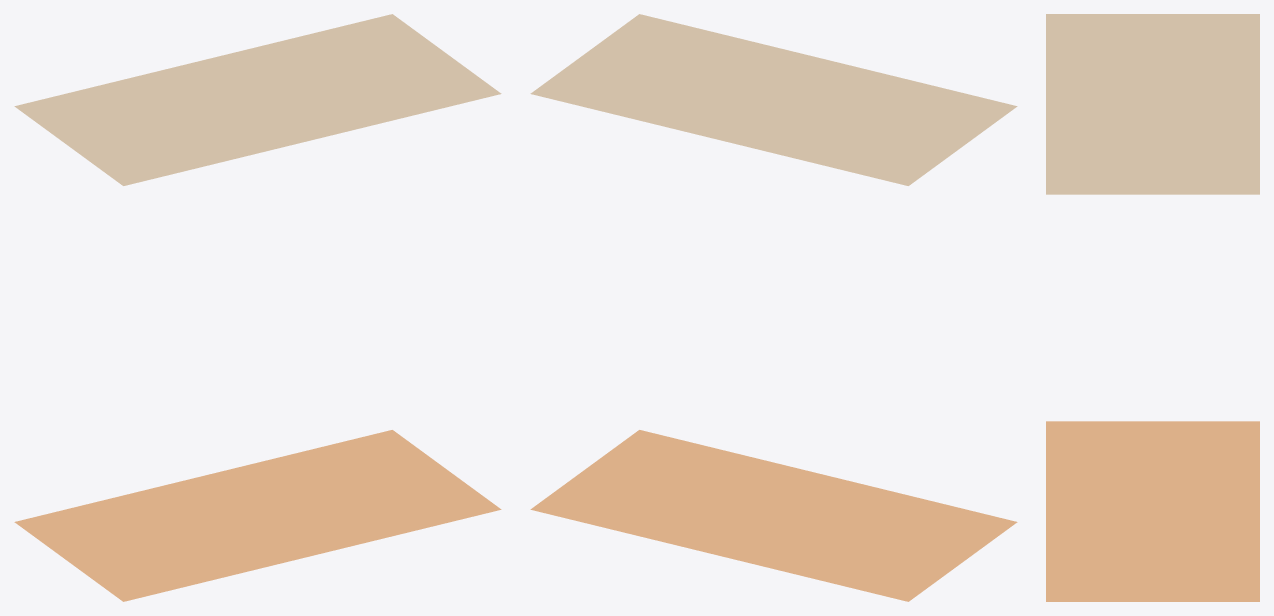
The model's file is Couloir_1x2.fbx.
3 views of the same model, side by side, from view 1: azimuth 30°, elevation 25°; view 2: azimuth 150°, elevation 25°; view 3: azimuth 270°, elevation 25° (orthographic). The views are drawn at different scales.
Visible parts, largest first — view 1: Couloir_1x2; view 2: Couloir_1x2; view 3: Couloir_1x2.
Boxes of the visible parts, x1,y1,x2,y2 form: Couloir_1x2: [14, 14, 501, 601]; Couloir_1x2: [530, 14, 1017, 601]; Couloir_1x2: [1046, 14, 1259, 601].
Bounding box in the file's own units: 2 × 2.1 × 1.
